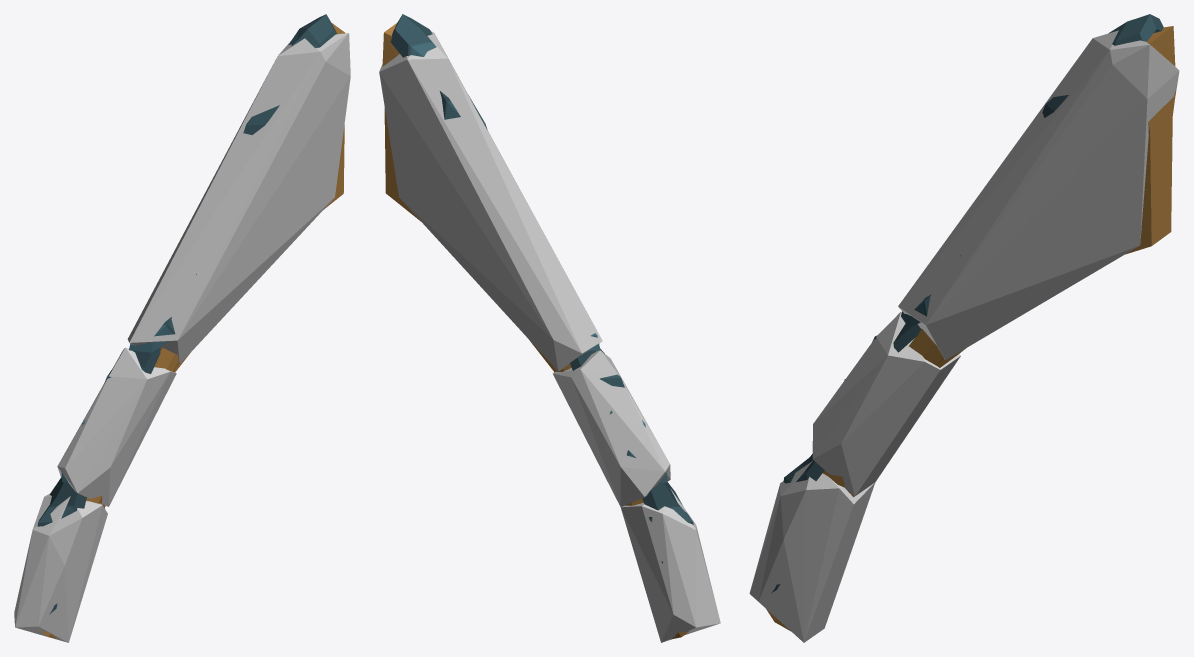
The model's file is SM_Bld_Roof_End_Convex_Peak_01.fbx.
The picture shows the model from 3 angles, left to right: view 1: azimuth 30°, elevation 25°; view 2: azimuth 150°, elevation 25°; view 3: azimuth 330°, elevation 25°; orthographic projection. The views are drawn at different scales.
Parts seen in each view (by area): view 1: SM_Bld_Roof_End_Convex_Peak_01_ConvexHulls, SM_Bld_Roof_End_Convex_Peak_01; view 2: SM_Bld_Roof_End_Convex_Peak_01_ConvexHulls, SM_Bld_Roof_End_Convex_Peak_01; view 3: SM_Bld_Roof_End_Convex_Peak_01_ConvexHulls, SM_Bld_Roof_End_Convex_Peak_01.
Part boxes in pixels (bbox=[...]): SM_Bld_Roof_End_Convex_Peak_01_ConvexHulls: bbox=[14, 33, 350, 642]; SM_Bld_Roof_End_Convex_Peak_01: bbox=[37, 14, 345, 638]; SM_Bld_Roof_End_Convex_Peak_01_ConvexHulls: bbox=[379, 31, 720, 642]; SM_Bld_Roof_End_Convex_Peak_01: bbox=[382, 14, 693, 639]; SM_Bld_Roof_End_Convex_Peak_01_ConvexHulls: bbox=[749, 30, 1179, 642]; SM_Bld_Roof_End_Convex_Peak_01: bbox=[766, 14, 1175, 631].
Bounding box in the file's own units: 279 × 42.99 × 456.
Materials: 2 (1 with a texture image).
